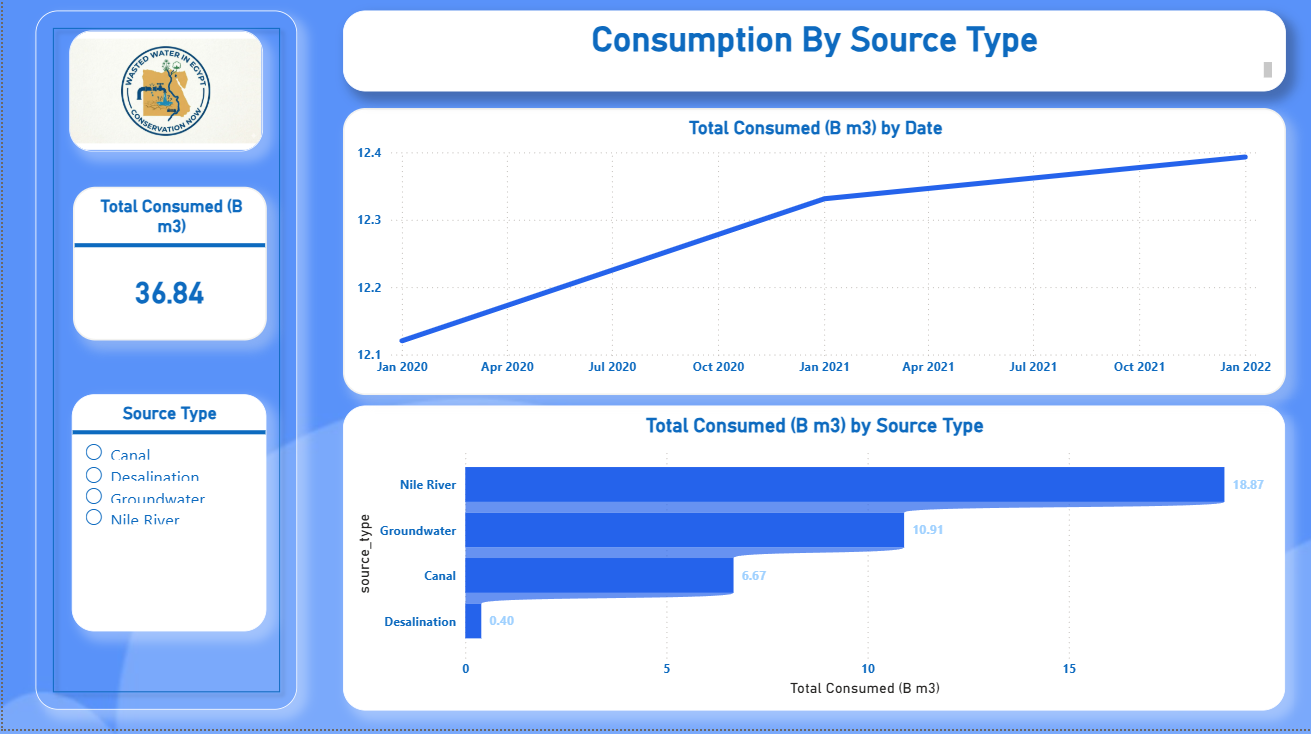

What the dashboard file says about the page in this screenshot:
{"tool":"powerbi","page":{"name":"consume","canvas":[1280,720],"ordinal":5},"visuals":[{"type":"card","title":"Total Consumed (B m3)","fields":{"Values":["_Measures.Total Consumed (B m3)"]},"box":[68.2,189.6,189.6,150.1],"z":0},{"type":"barChart","title":"Total Consumed (B m3) by Source Type","fields":{"Category":["Dim_Source.source_type"],"Y":["_Measures.Total Consumed (B m3)"]},"box":[332.6,403.2,921.6,298.1],"z":1000},{"type":"lineChart","fields":{"Category":["Calendar.Date"],"Y":["_Measures.Total Consumed (B m3)"]},"box":[332.1,112.2,922.1,280.6],"z":2000},{"type":"shape","box":[31.8,16.7,256.3,684],"z":3000},{"type":"image","box":[65.2,36.4,189.6,118.3],"z":4000},{"type":"listSlicer","title":"Source Type","fields":{"Values":["Dim_Source.source_type"]},"box":[67.7,393.1,190.1,231.8],"z":5000},{"type":"textbox","title":"Consumption By Source Type","box":[332.1,16.7,922.1,78.9],"z":6000}]}

Visuals, with their boxes in screenshot pixels (x1, y1, x2, y2), scaled from the page's 1280x720 canvas onto the 1311x734 screenshot:
"Total Consumed (B m3)" card: crop(70, 193, 264, 346)
"Total Consumed (B m3) by Source Type" barChart: crop(341, 411, 1285, 715)
lineChart - Calendar.Date x _Measures.Total Consumed (B m3): crop(340, 114, 1285, 400)
shape: crop(33, 17, 295, 714)
image: crop(67, 37, 261, 158)
"Source Type" listSlicer: crop(69, 401, 264, 637)
"Consumption By Source Type" textbox: crop(340, 17, 1285, 97)
